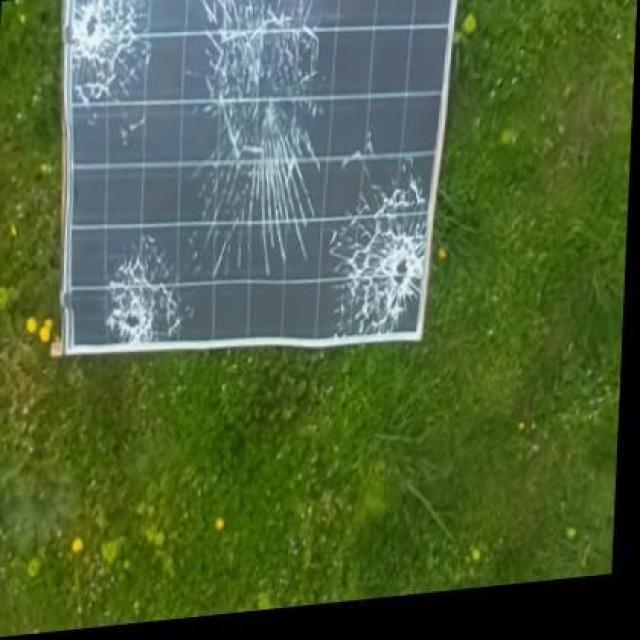cracked: (62, 1, 450, 354)
